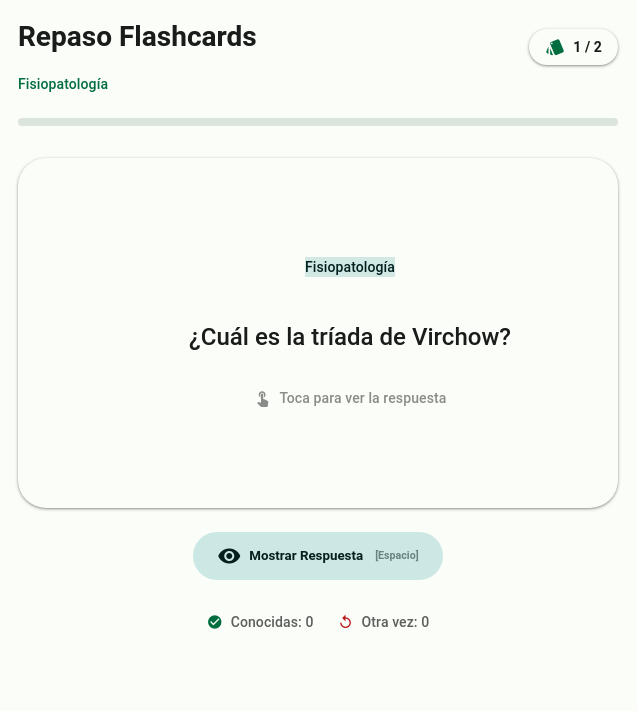
it: V2FlashcardStudy › shows session complete state after all cards rated
// Rate first card
What coordinates should you click on to do the following:
click the button "Mostrar Respuesta [Espacio]"
I would click on:
 (318, 556)
Its box is [193, 532, 443, 580].
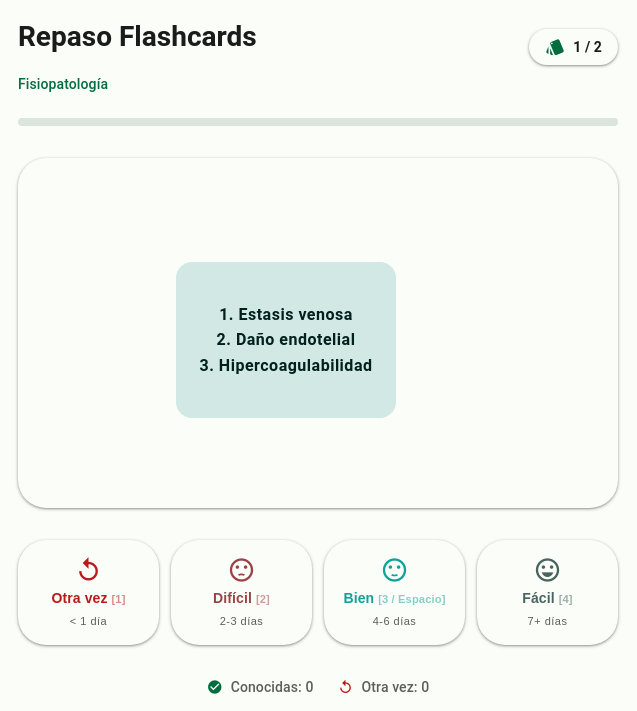
What coordinates should you click on to do the following:
click the text "Bien"
I would click on:
 (394, 598)
Its box is [344, 588, 446, 608].
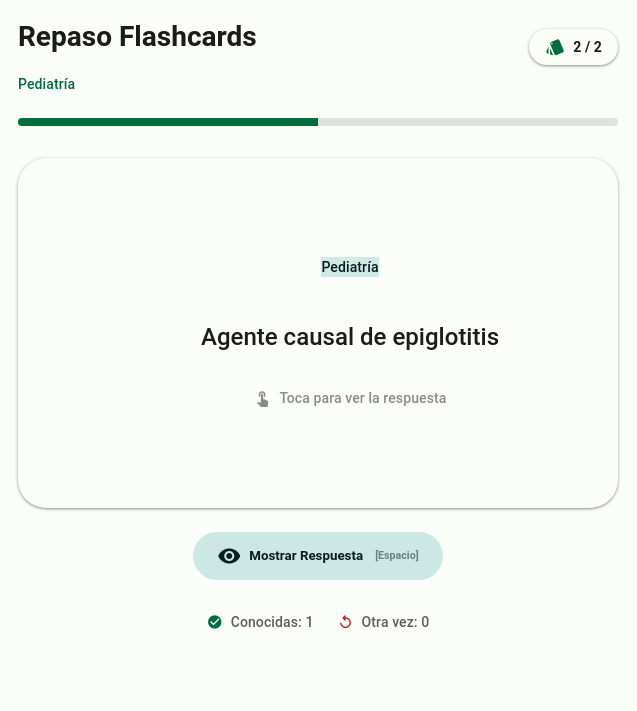
// Rate second card
What coordinates should you click on to do the following:
click the button "Mostrar Respuesta [Espacio]"
I would click on:
 (318, 556)
Its box is [193, 532, 443, 580].
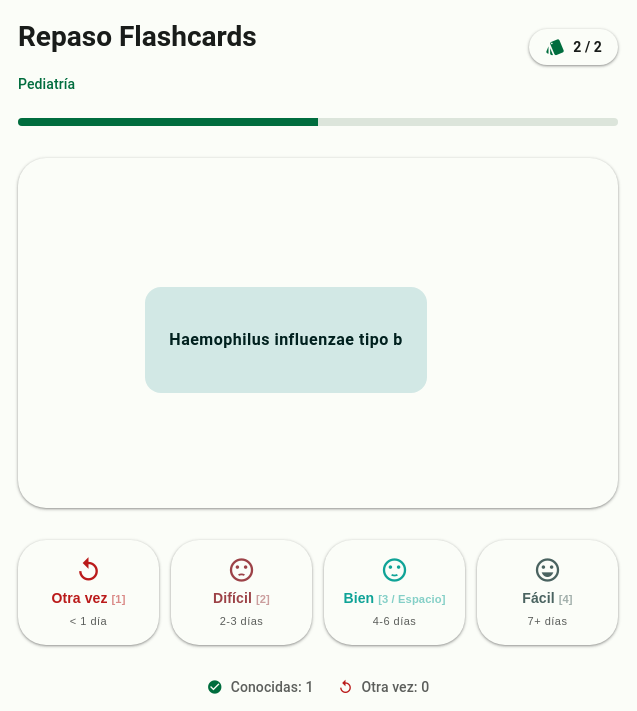
What coordinates should you click on to do the following:
click the text "Bien"
I would click on:
 (394, 598)
Its box is [344, 588, 446, 608].
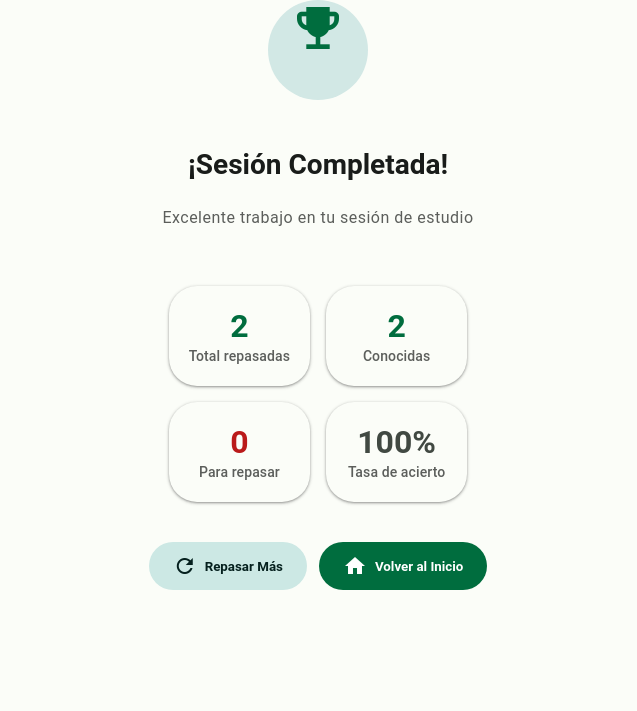
Expected: the heading "¡Sesión Completada!" is shown, [188, 148, 448, 181]
